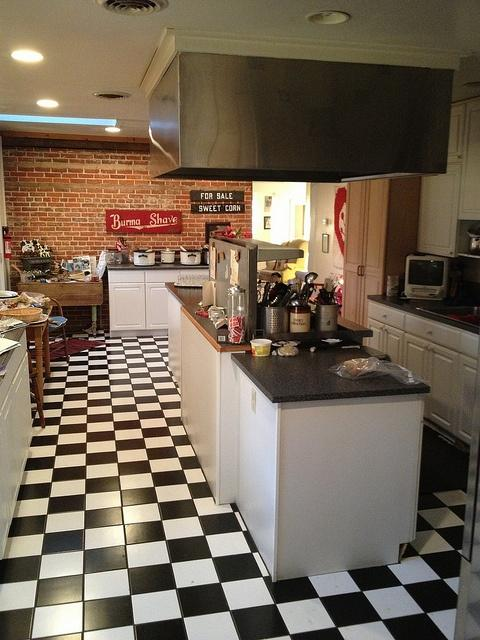Lemari: (339, 173, 422, 329)
